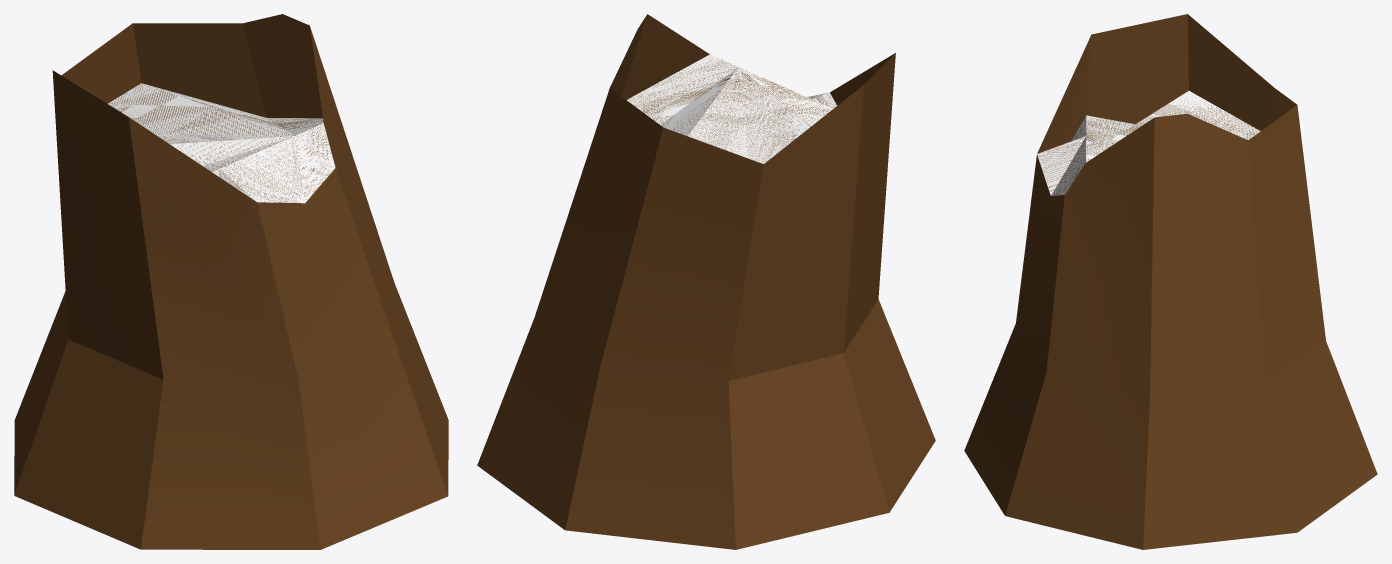
File: Tree_Stump_02.fbx
The picture shows the model from 3 angles, left to right: view 1: azimuth 30°, elevation 25°; view 2: azimuth 150°, elevation 25°; view 3: azimuth 270°, elevation 25°; orthographic projection. The views are drawn at different scales.
Parts seen in each view (by area): view 1: Model; view 2: Model; view 3: Model.
Boxes of the visible parts, x1=… form: Model: x1=14, y1=14, x2=448, y2=549; Model: x1=477, y1=14, x2=935, y2=549; Model: x1=964, y1=14, x2=1377, y2=549.
Size of the model in its own units: 97.87 by 97.99 by 97.87.
